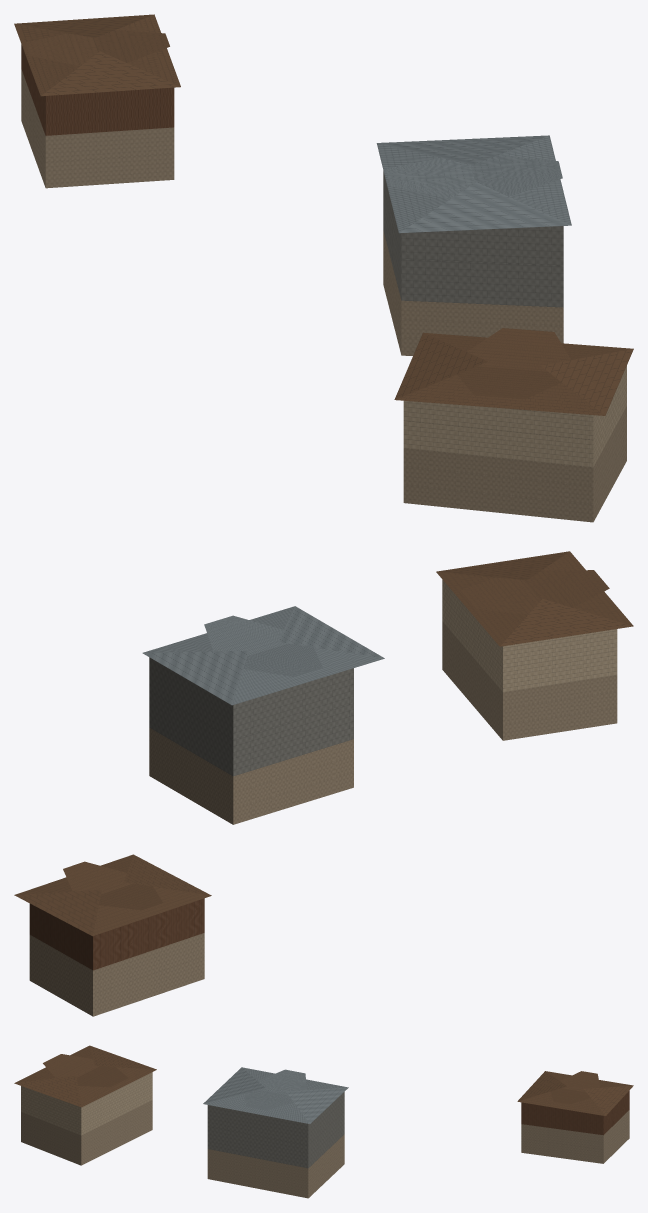
Rendered from bld_c31_-38_463.gltf.
3 views of the same model, one above another, from view 1: azimuth 30°, elevation 25°; view 2: azimuth 150°, elevation 25°; view 3: azimuth 270°, elevation 25° (orthographic). The views are drawn at different scales.
Visible parts, largest first — view 1: bld_c31_-38_463; view 2: bld_c31_-38_463; view 3: bld_c31_-38_463.
Part boxes in pixels (x1,y1,x2,y2): bld_c31_-38_463: (14, 14, 633, 522); bld_c31_-38_463: (14, 551, 633, 1016); bld_c31_-38_463: (14, 1045, 633, 1198).
Bounding box in the file's own units: 34.64 × 14.1 × 95.28.
6 materials, 6 textured.
